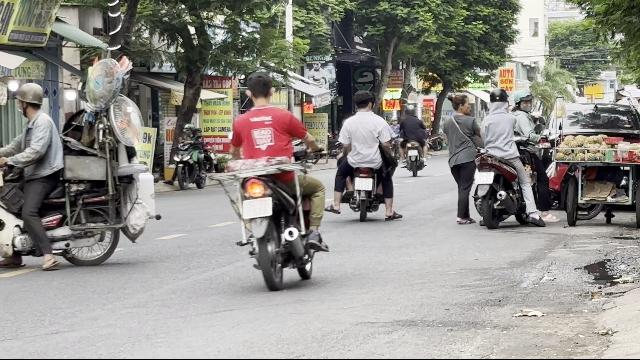helmet: (14, 82, 44, 114), (512, 88, 534, 110), (488, 86, 508, 110)
licenseplate: (242, 199, 272, 219), (474, 172, 494, 184), (355, 178, 373, 190)
motorcyclist: (223, 70, 329, 286), (0, 78, 76, 274), (472, 84, 538, 228), (329, 89, 398, 221)
nohelmet: (244, 72, 274, 106), (352, 90, 376, 112)
